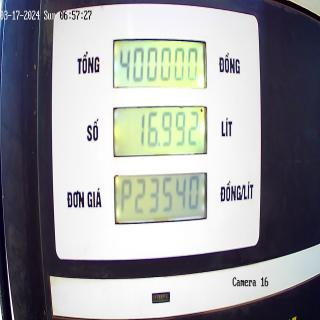screen: (112, 32, 208, 229)
